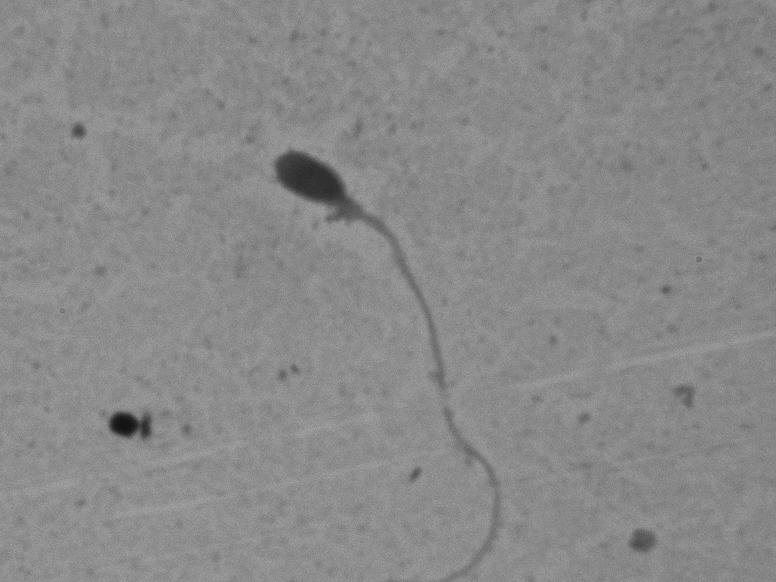Abnormal: (212, 134, 524, 576)
